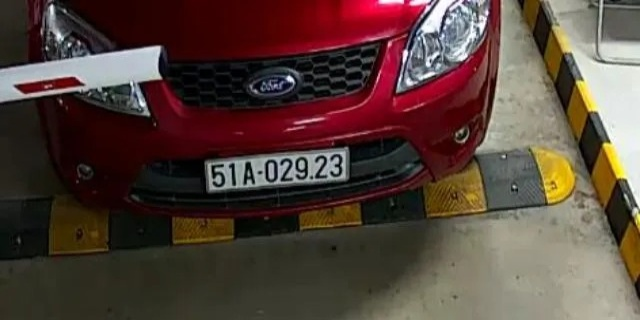bien_so: (208, 155, 350, 186)
